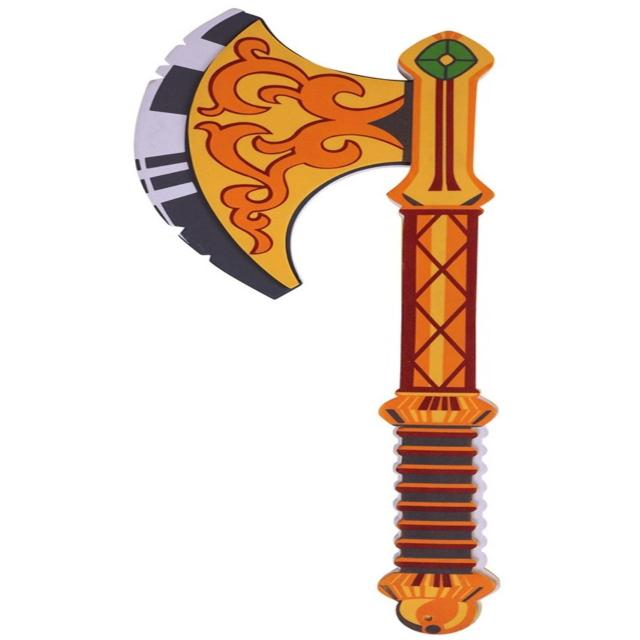Kapak: (122, 3, 520, 583)
